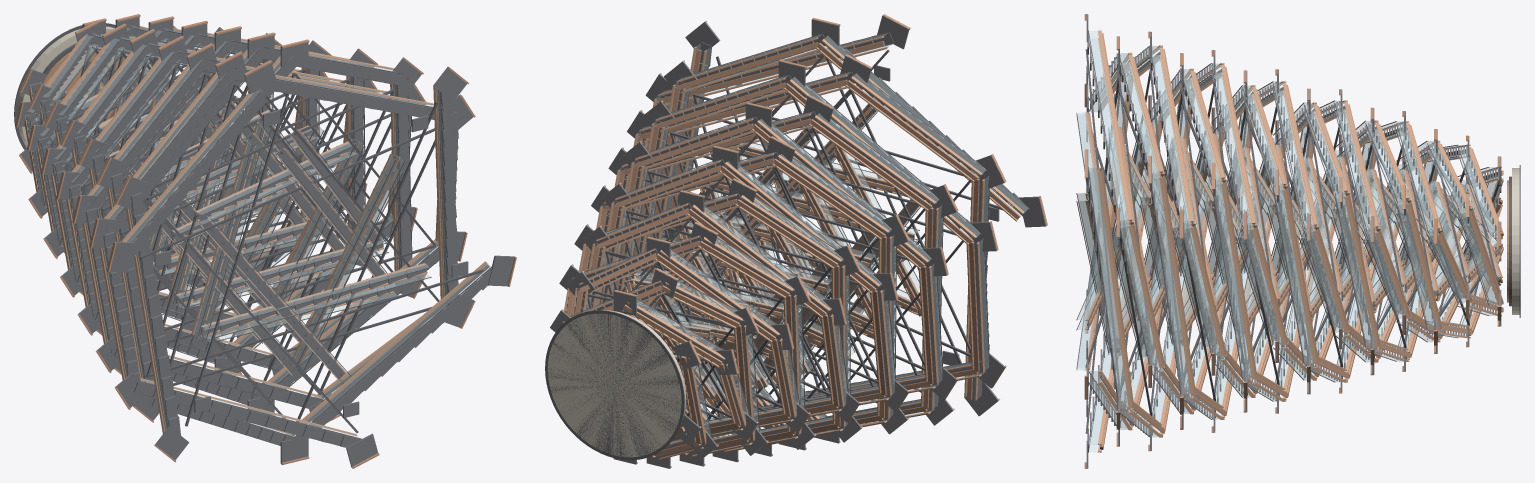
Rendered from vessel.glb.
3 renders of one model, left to right at view 1: azimuth 30°, elevation 25°; view 2: azimuth 150°, elevation 25°; view 3: azimuth 270°, elevation 25°, orthographic. The views are drawn at different scales.
Visible parts, largest first — view 1: Flight 148 glass 1, Inner Flight 152 glass 1, Frame brace 13-2, Flight 145 glass -1, Frame brace 13-4, Frame brace 13-5, Inner Flight 152 glass -1, Frame brace 13-1, Inner Flight 151 glass 1, Lower stone plinth, Inner Flight 143 glass -1, Flight 149 glass 1 (+50 smaller); view 2: Lower stone plinth, Footing shadow ring, Flight 144 copper underside, Flight 97 glass -1, Flight 133 copper underside, Flight 121 glass -1, Flight 73 glass -1, Flight 133 glass -1, Flight 132 copper underside, Flight 120 copper underside, Flight 109 copper underside, Flight 108 copper underside (+40 smaller); view 3: Flight 149 glass -1, Flight 149 glass 1, Flight 125 glass -1, Flight 101 glass -1, Flight 144 glass -1, Flight 120 glass -1, Flight 77 glass -1, Flight 125 glass 1, Flight 144 glass 1, Flight 96 glass -1, Flight 53 glass -1, Flight 137 glass -1 (+86 smaller).
Boxes of the visible parts, <box> form: Flight 148 glass 1: <box>289,262,490,436</box>; Inner Flight 152 glass 1: <box>291,155,395,367</box>; Frame brace 13-2: <box>185,73,294,426</box>; Flight 145 glass -1: <box>125,60,280,241</box>; Frame brace 13-4: <box>146,269,483,377</box>; Frame brace 13-5: <box>296,102,438,422</box>; Inner Flight 152 glass -1: <box>300,157,403,369</box>; Frame brace 13-1: <box>139,128,434,259</box>; Inner Flight 151 glass 1: <box>202,264,428,329</box>; Lower stone plinth: <box>17,26,151,147</box>; Inner Flight 143 glass -1: <box>192,142,252,336</box>; Flight 149 glass 1: <box>436,88,446,305</box>; Lower stone plinth: <box>547,310,686,457</box>; Footing shadow ring: <box>545,310,684,460</box>; Flight 144 copper underside: <box>658,41,884,103</box>; Flight 97 glass -1: <box>760,119,931,261</box>; Flight 133 copper underside: <box>847,80,978,180</box>; Flight 121 glass -1: <box>792,77,980,237</box>; Flight 73 glass -1: <box>728,161,881,286</box>; Flight 133 glass -1: <box>854,73,985,174</box>; Flight 132 copper underside: <box>677,42,818,89</box>; Flight 120 copper underside: <box>639,79,847,139</box>; Flight 109 copper underside: <box>810,119,931,209</box>; Flight 108 copper underside: <box>656,82,786,128</box>; Flight 149 glass -1: <box>1089,171,1128,408</box>; Flight 149 glass 1: <box>1089,167,1127,404</box>; Flight 125 glass -1: <box>1152,177,1189,394</box>; Flight 101 glass -1: <box>1213,183,1251,379</box>; Flight 144 glass -1: <box>1089,30,1128,220</box>; Flight 120 glass -1: <box>1152,47,1189,221</box>; Flight 77 glass -1: <box>1274,189,1312,364</box>; Flight 125 glass 1: <box>1153,173,1189,389</box>; Flight 144 glass 1: <box>1089,38,1127,227</box>; Flight 96 glass -1: <box>1212,65,1251,223</box>; Flight 53 glass -1: <box>1336,196,1374,347</box>; Flight 137 glass -1: <box>1120,225,1158,367</box>.
Bounding box in the file's own units: 155 × 155 × 154.
